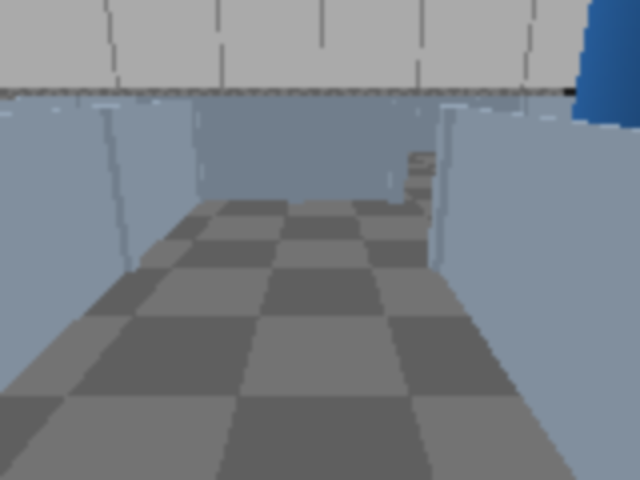person: (552, 0, 638, 378)
